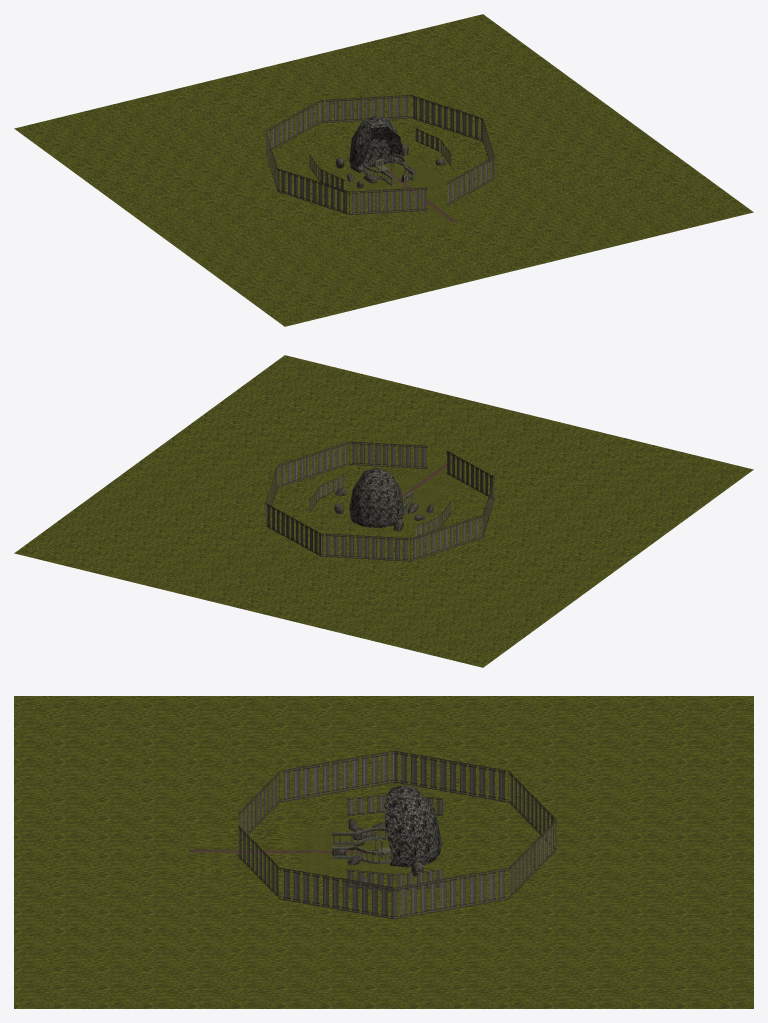
Rendered from entrance.fbx.
3 renders of one model, top to bottom at view 1: azimuth 30°, elevation 25°; view 2: azimuth 150°, elevation 25°; view 3: azimuth 270°, elevation 25°, orthographic. The views are drawn at different scales.
Visible parts, largest first — view 1: Plane.003, Cylinder, Grid, Plane.001, Plane.002, Rock_02.001; view 2: Plane.003, Cylinder, Grid, Plane.001, Plane.002; view 3: Plane.003, Cylinder, Grid, Plane.001, Plane.002, Rock_02.001.
Part boxes in pixels (bbox=[...]): Plane.003: bbox=[14, 14, 753, 326]; Cylinder: bbox=[265, 95, 494, 214]; Grid: bbox=[343, 156, 490, 229]; Plane.001: bbox=[349, 116, 403, 172]; Plane.002: bbox=[309, 128, 451, 191]; Rock_02.001: bbox=[336, 144, 446, 188]; Plane.003: bbox=[14, 355, 753, 667]; Cylinder: bbox=[265, 441, 494, 561]; Grid: bbox=[343, 450, 488, 523]; Plane.001: bbox=[349, 468, 403, 527]; Plane.002: bbox=[309, 475, 450, 538]; Plane.003: bbox=[14, 696, 753, 1008]; Cylinder: bbox=[238, 750, 556, 919]; Grid: bbox=[188, 827, 402, 875]; Plane.001: bbox=[384, 785, 442, 867]; Plane.002: bbox=[346, 794, 442, 891]; Rock_02.001: bbox=[332, 818, 423, 882].
Size of what is drawn, in the model's own units: 228468 by 228468 by 39414.
16 materials, 16 textured.
